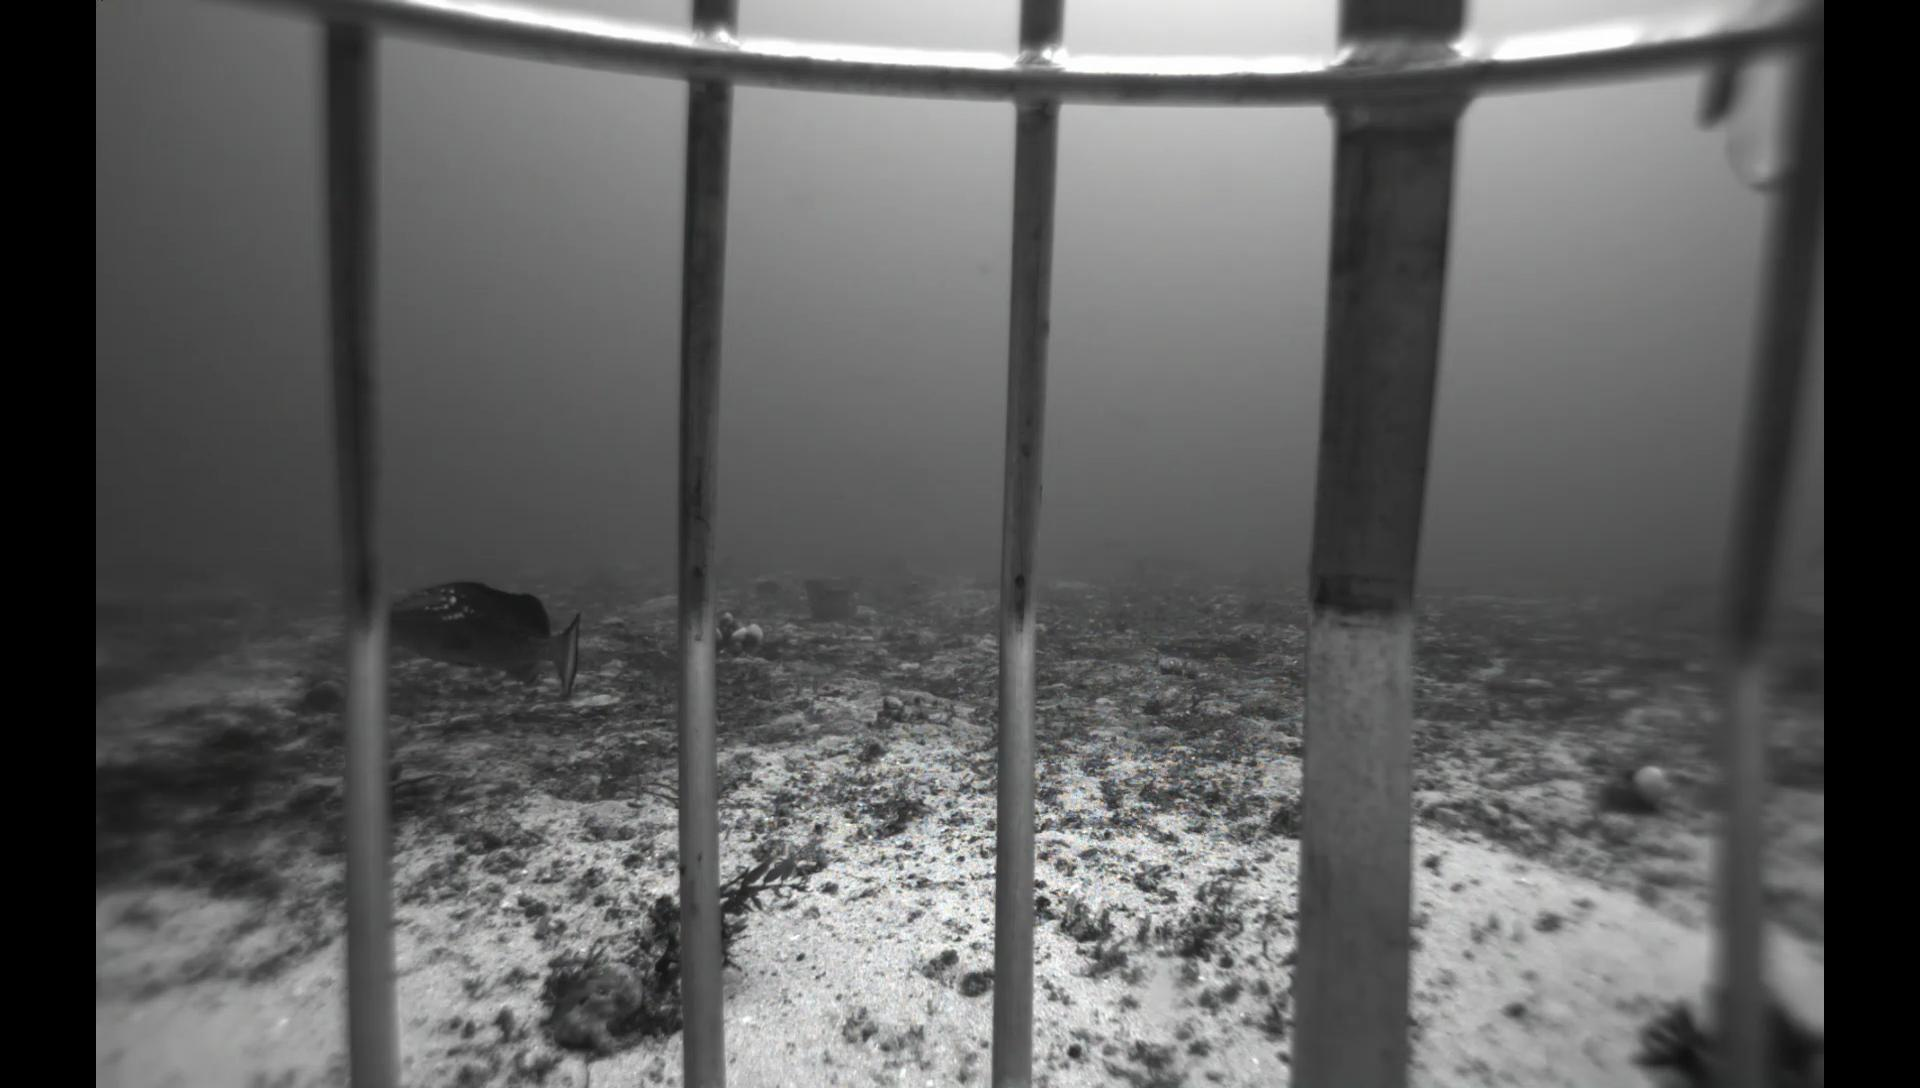CALAMUSNODOSUS-170210608: (1780, 529, 1824, 629)
CHAETODONOCELLATUS-170260307: (1040, 580, 1077, 605)
EPINEPHELUSMORIO-170021211: (382, 572, 603, 710)
PRISTIGENYSALTA-170050401: (291, 678, 345, 717)
